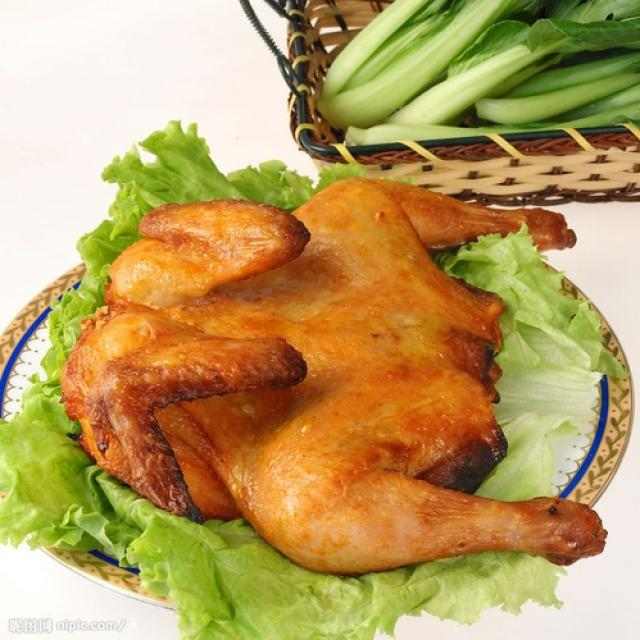烧串烤肉: (40, 133, 609, 594)
